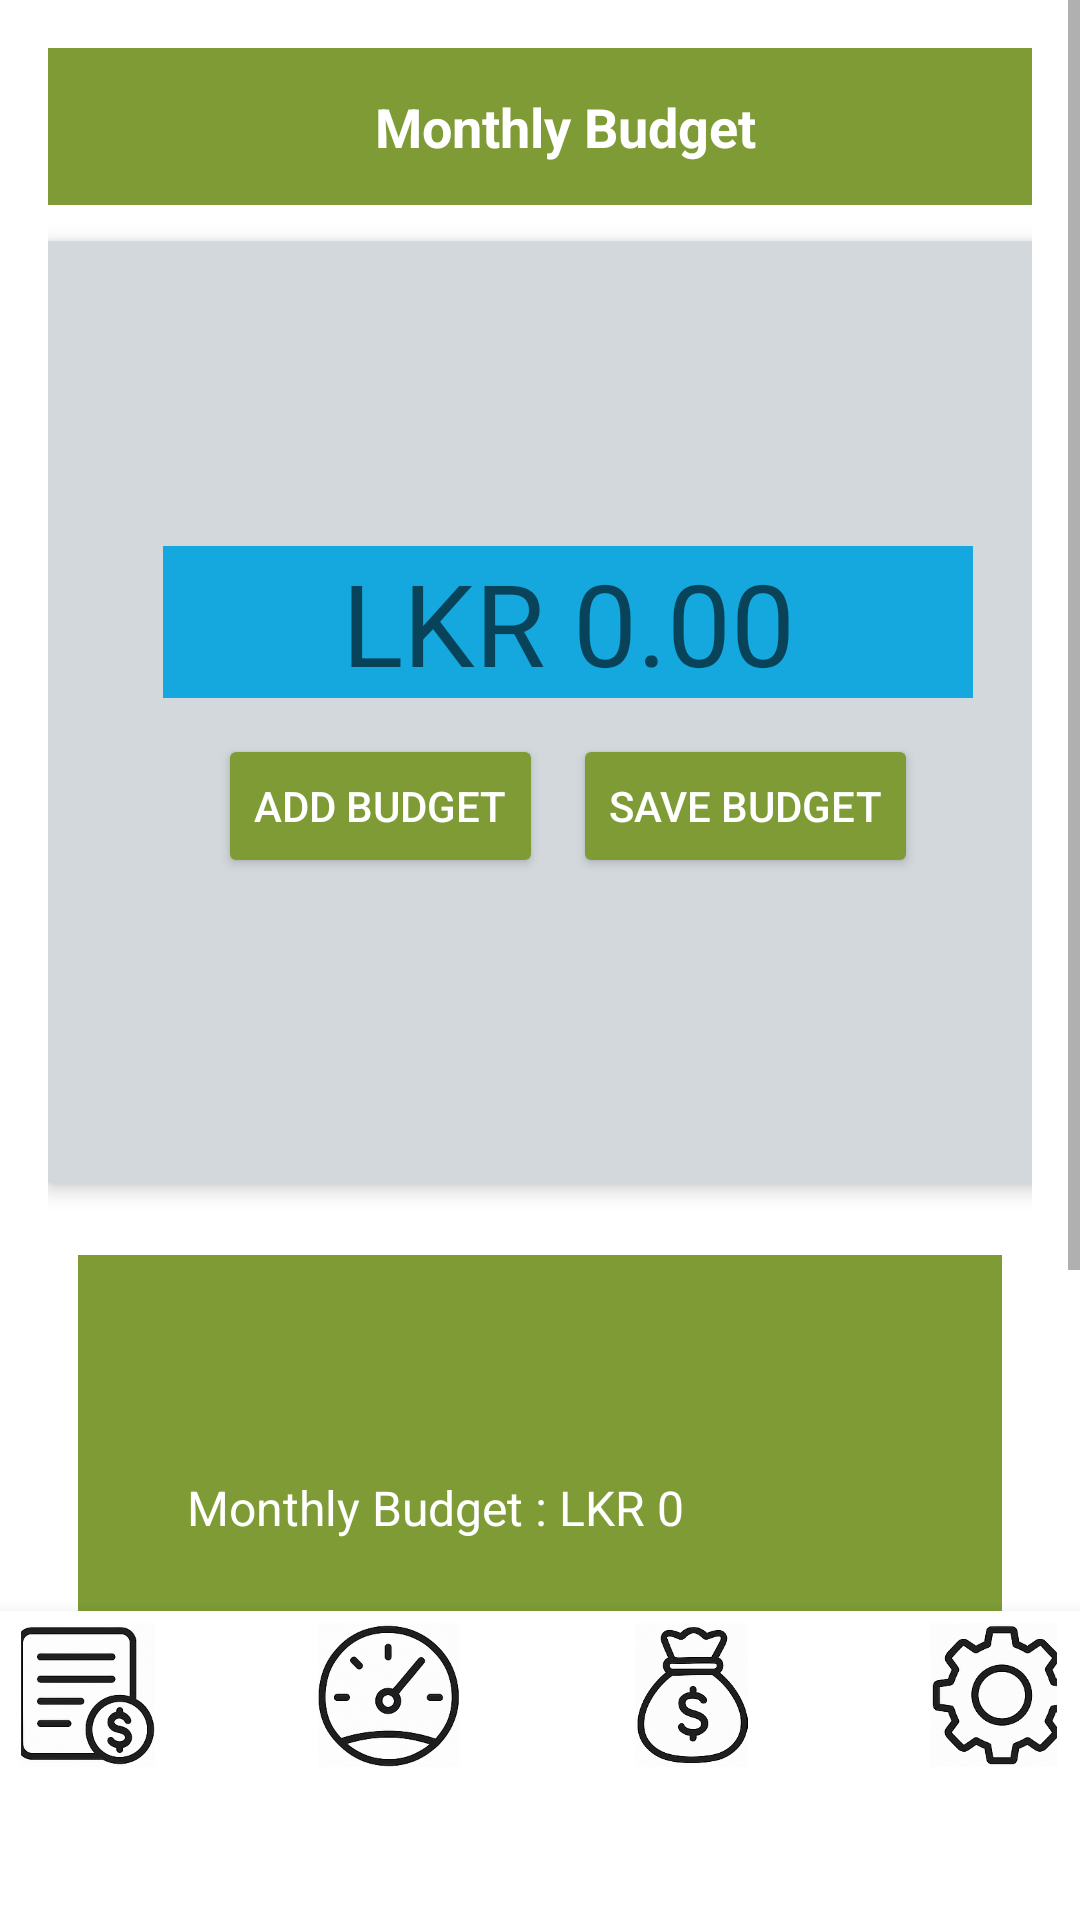

Where icons sit on this 1080 × 1920 app screen, as (x1, y1, x2, y2):
Dashboard: (318, 1625, 459, 1767)
Setting: (932, 1626, 1057, 1765)
Transaction: (21, 1627, 155, 1765)
